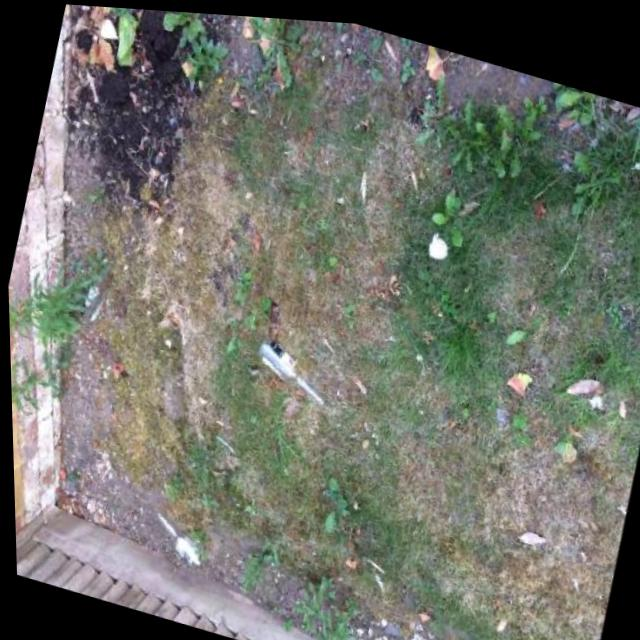glass: (250, 332, 337, 408)
